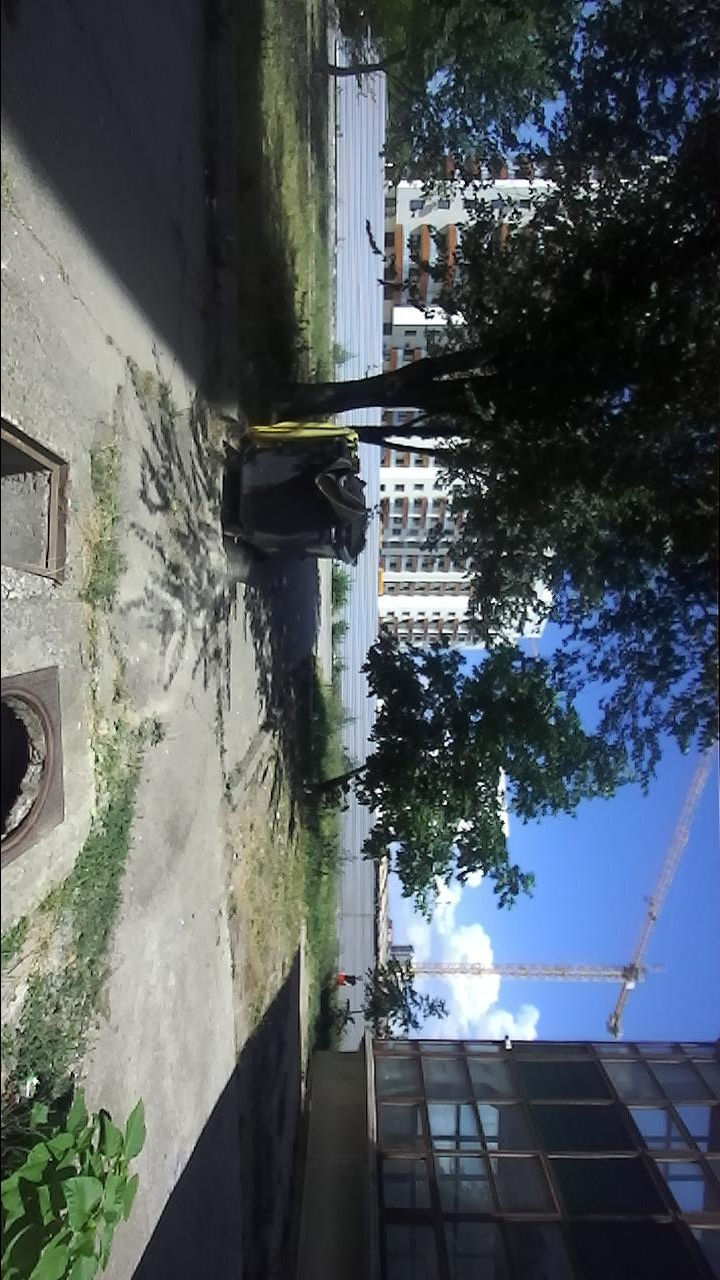drain: (1, 416, 70, 585), (2, 679, 55, 860)
